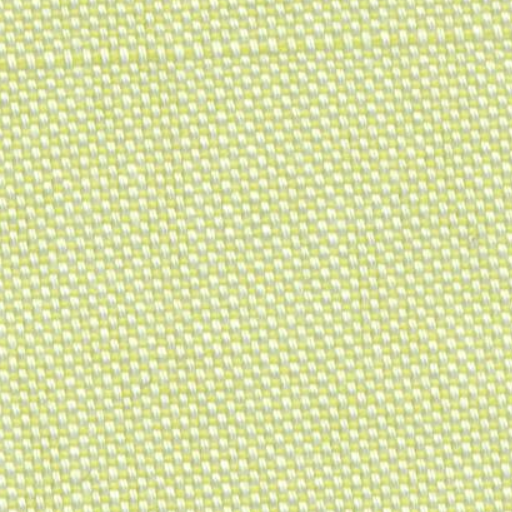TuoSha: (8, 14, 500, 83)
